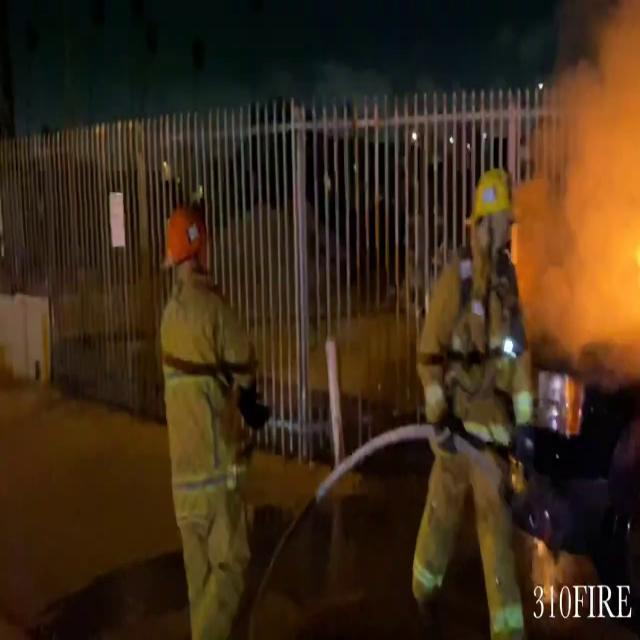Smoke: (522, 1, 640, 382)
